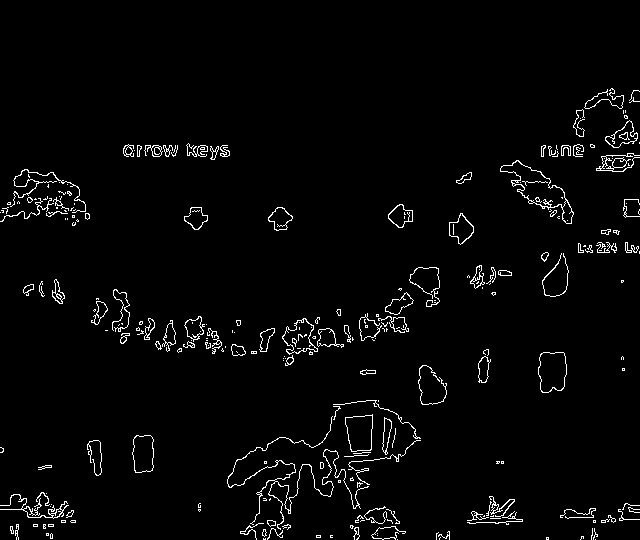down: (176, 200, 214, 236)
left: (381, 201, 419, 235)
right: (442, 211, 478, 249)
up: (262, 197, 298, 238)
